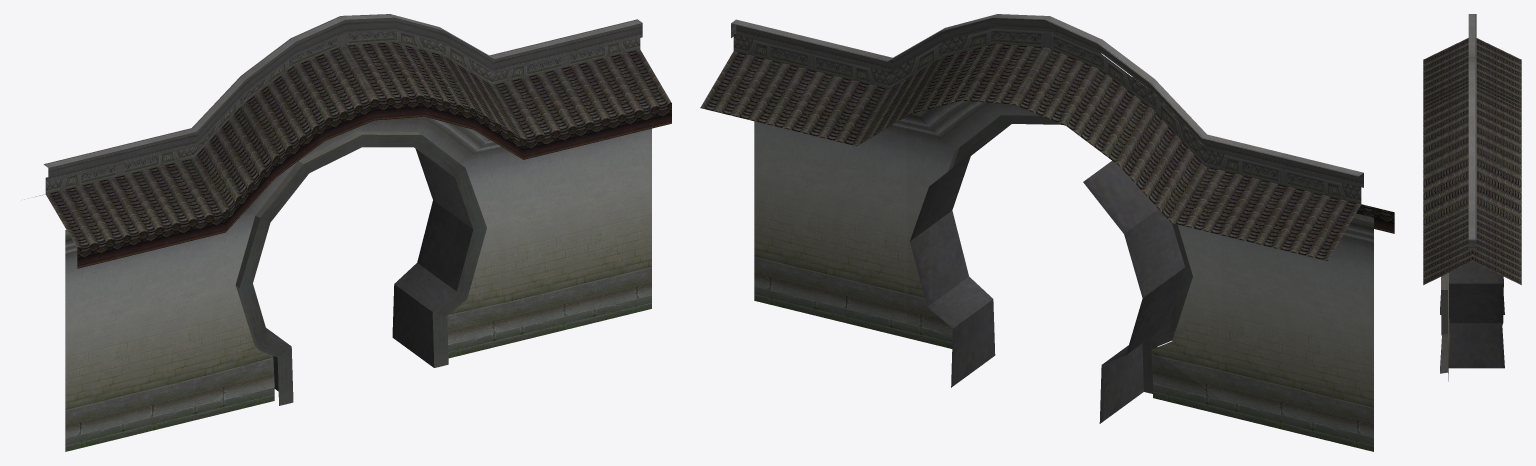
File: zc_suzhou_zhujian07.FBX
The picture shows the model from 3 angles, left to right: view 1: azimuth 30°, elevation 25°; view 2: azimuth 150°, elevation 25°; view 3: azimuth 270°, elevation 25°; orthographic projection. The views are drawn at different scales.
Parts seen in each view (by area): view 1: zc_suzhou_zhujian07; view 2: zc_suzhou_zhujian07; view 3: zc_suzhou_zhujian07.
Part boxes in pixels (left/top/right/bottom): zc_suzhou_zhujian07: left=35, top=14, right=671, bottom=451; zc_suzhou_zhujian07: left=700, top=14, right=1394, bottom=451; zc_suzhou_zhujian07: left=1423, top=14, right=1521, bottom=381.
Bounding box in the file's own units: 763 × 432 × 141.
1 material, 1 textured.
